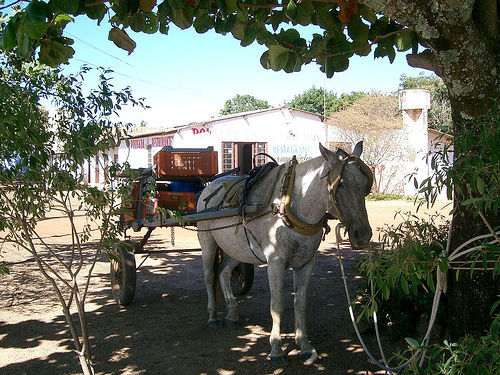horse: (195, 139, 376, 368)
